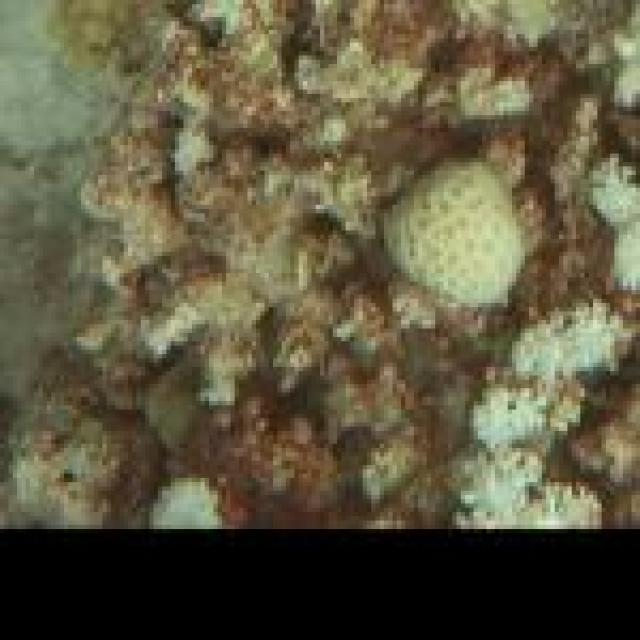Bleached Coral: (445, 313, 640, 477), (387, 162, 529, 321), (590, 143, 631, 309)
